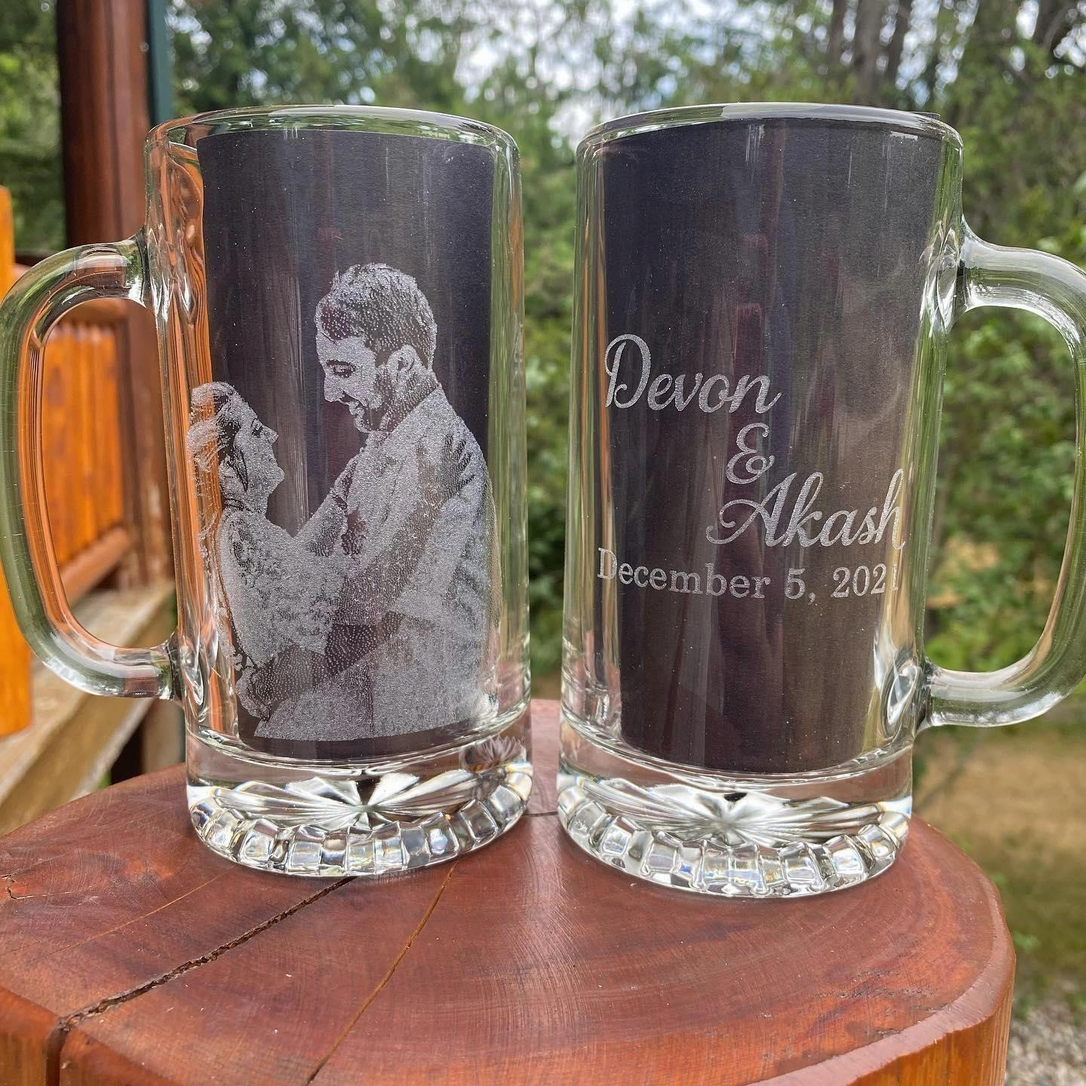glass-mug: (545, 94, 1086, 904), (0, 99, 559, 880)
